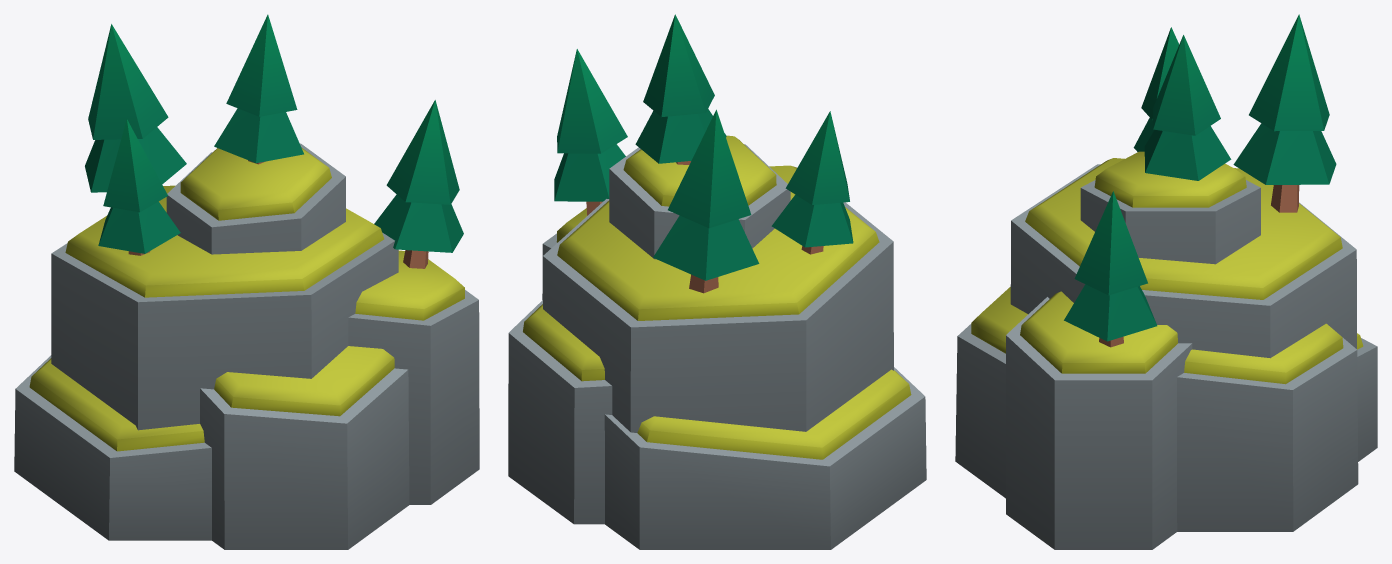
The model's file is mountain_A_grass_trees.gltf.
The picture shows the model from 3 angles, left to right: view 1: azimuth 30°, elevation 25°; view 2: azimuth 150°, elevation 25°; view 3: azimuth 270°, elevation 25°; orthographic projection.
Parts seen in each view (by area): view 1: mountain_A_grass_trees; view 2: mountain_A_grass_trees; view 3: mountain_A_grass_trees.
Boxes of the visible parts, x1,y1,x2,y2 form: mountain_A_grass_trees: (14, 14, 479, 549); mountain_A_grass_trees: (508, 14, 926, 549); mountain_A_grass_trees: (955, 14, 1377, 549).
Size of the model in its own units: 1.86 by 2.18 by 1.88.
Materials: 1 (1 with a texture image).
